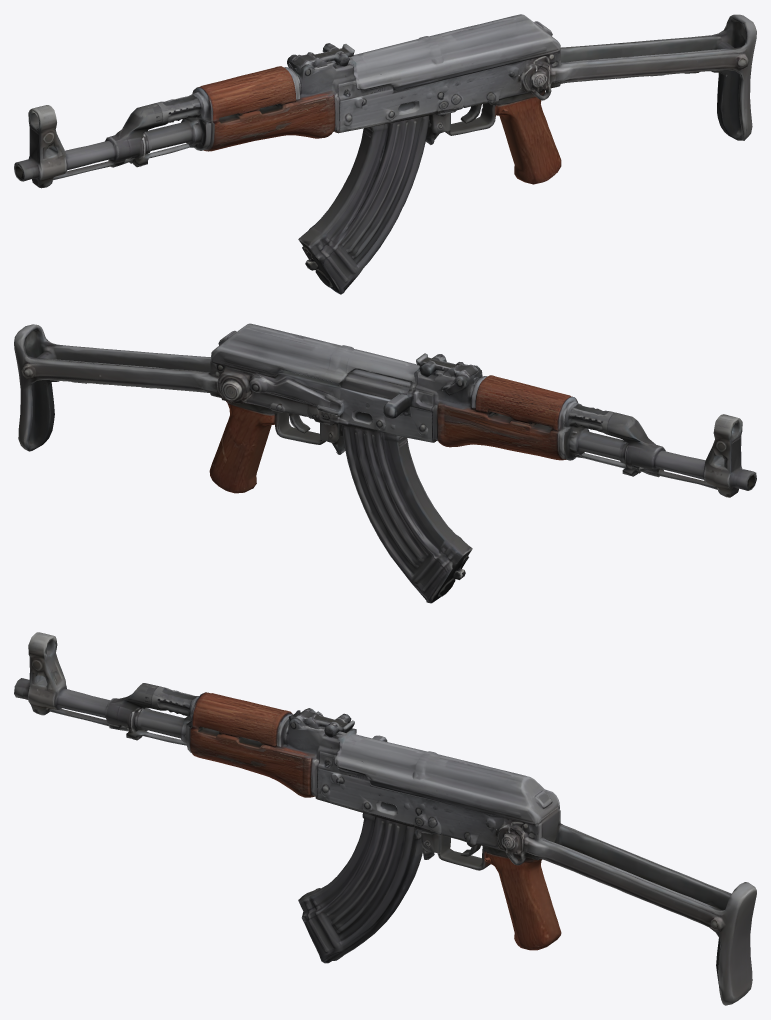
The model's file is type56.glb.
3 views of the same model, one above another, from view 1: azimuth 30°, elevation 25°; view 2: azimuth 150°, elevation 25°; view 3: azimuth 330°, elevation 25° (orthographic).
Visible parts, largest first — view 1: tripo_node_d8d54e6d-8937-4e9b-b3b5-feb4c31b862e; view 2: tripo_node_d8d54e6d-8937-4e9b-b3b5-feb4c31b862e; view 3: tripo_node_d8d54e6d-8937-4e9b-b3b5-feb4c31b862e.
Part boxes in pixels (x1=…): tripo_node_d8d54e6d-8937-4e9b-b3b5-feb4c31b862e: x1=14, y1=14, x2=756, y2=294; tripo_node_d8d54e6d-8937-4e9b-b3b5-feb4c31b862e: x1=14, y1=323, x2=756, y2=603; tripo_node_d8d54e6d-8937-4e9b-b3b5-feb4c31b862e: x1=14, y1=632, x2=756, y2=1005.
Bounding box in the file's own units: 0.9842 × 0.3247 × 0.1054.
Materials: 1 (1 with a texture image).
